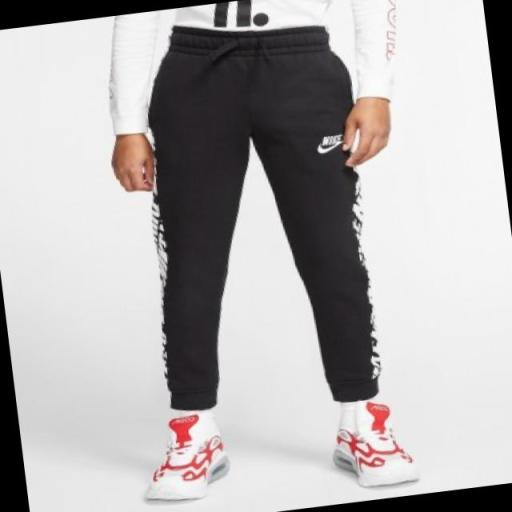Nike: (316, 129, 344, 147), (316, 142, 342, 153)
